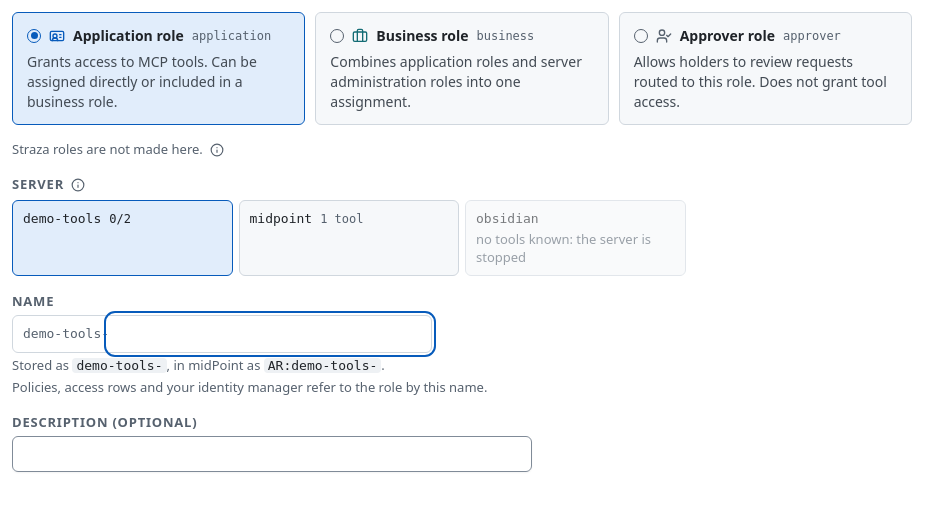
Test: the first step of an application role › reads a word far from every role of the server as free, though they share its prefix
Type "audit" into the field named "role name suffix" at x=270, y=334, box [109,316,431,352]
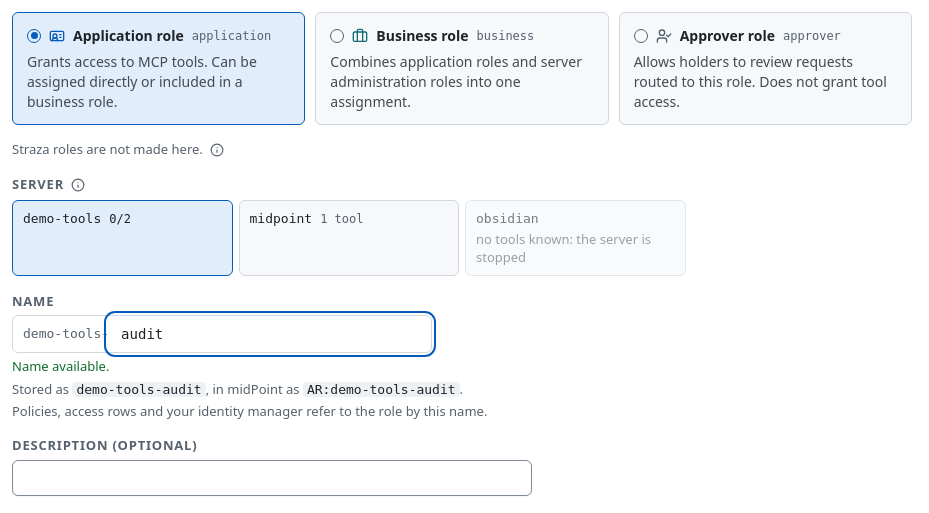
expect the text "Name available." is shown: met, box [12,357,109,375]
